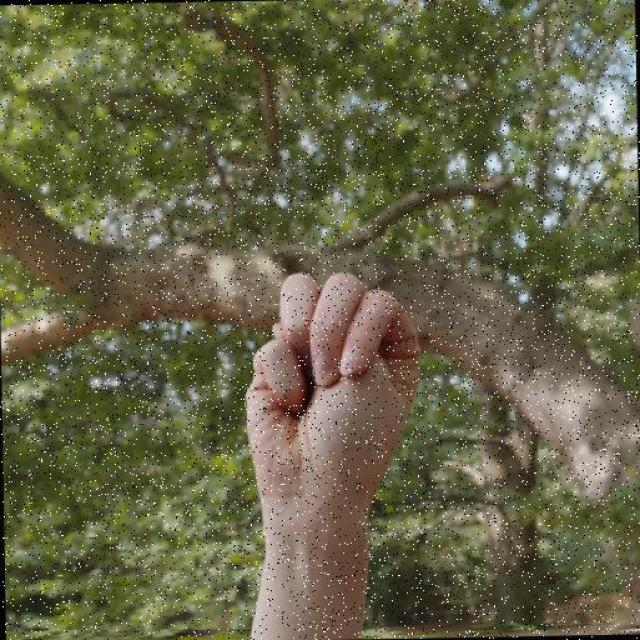M: (239, 268, 428, 512)
